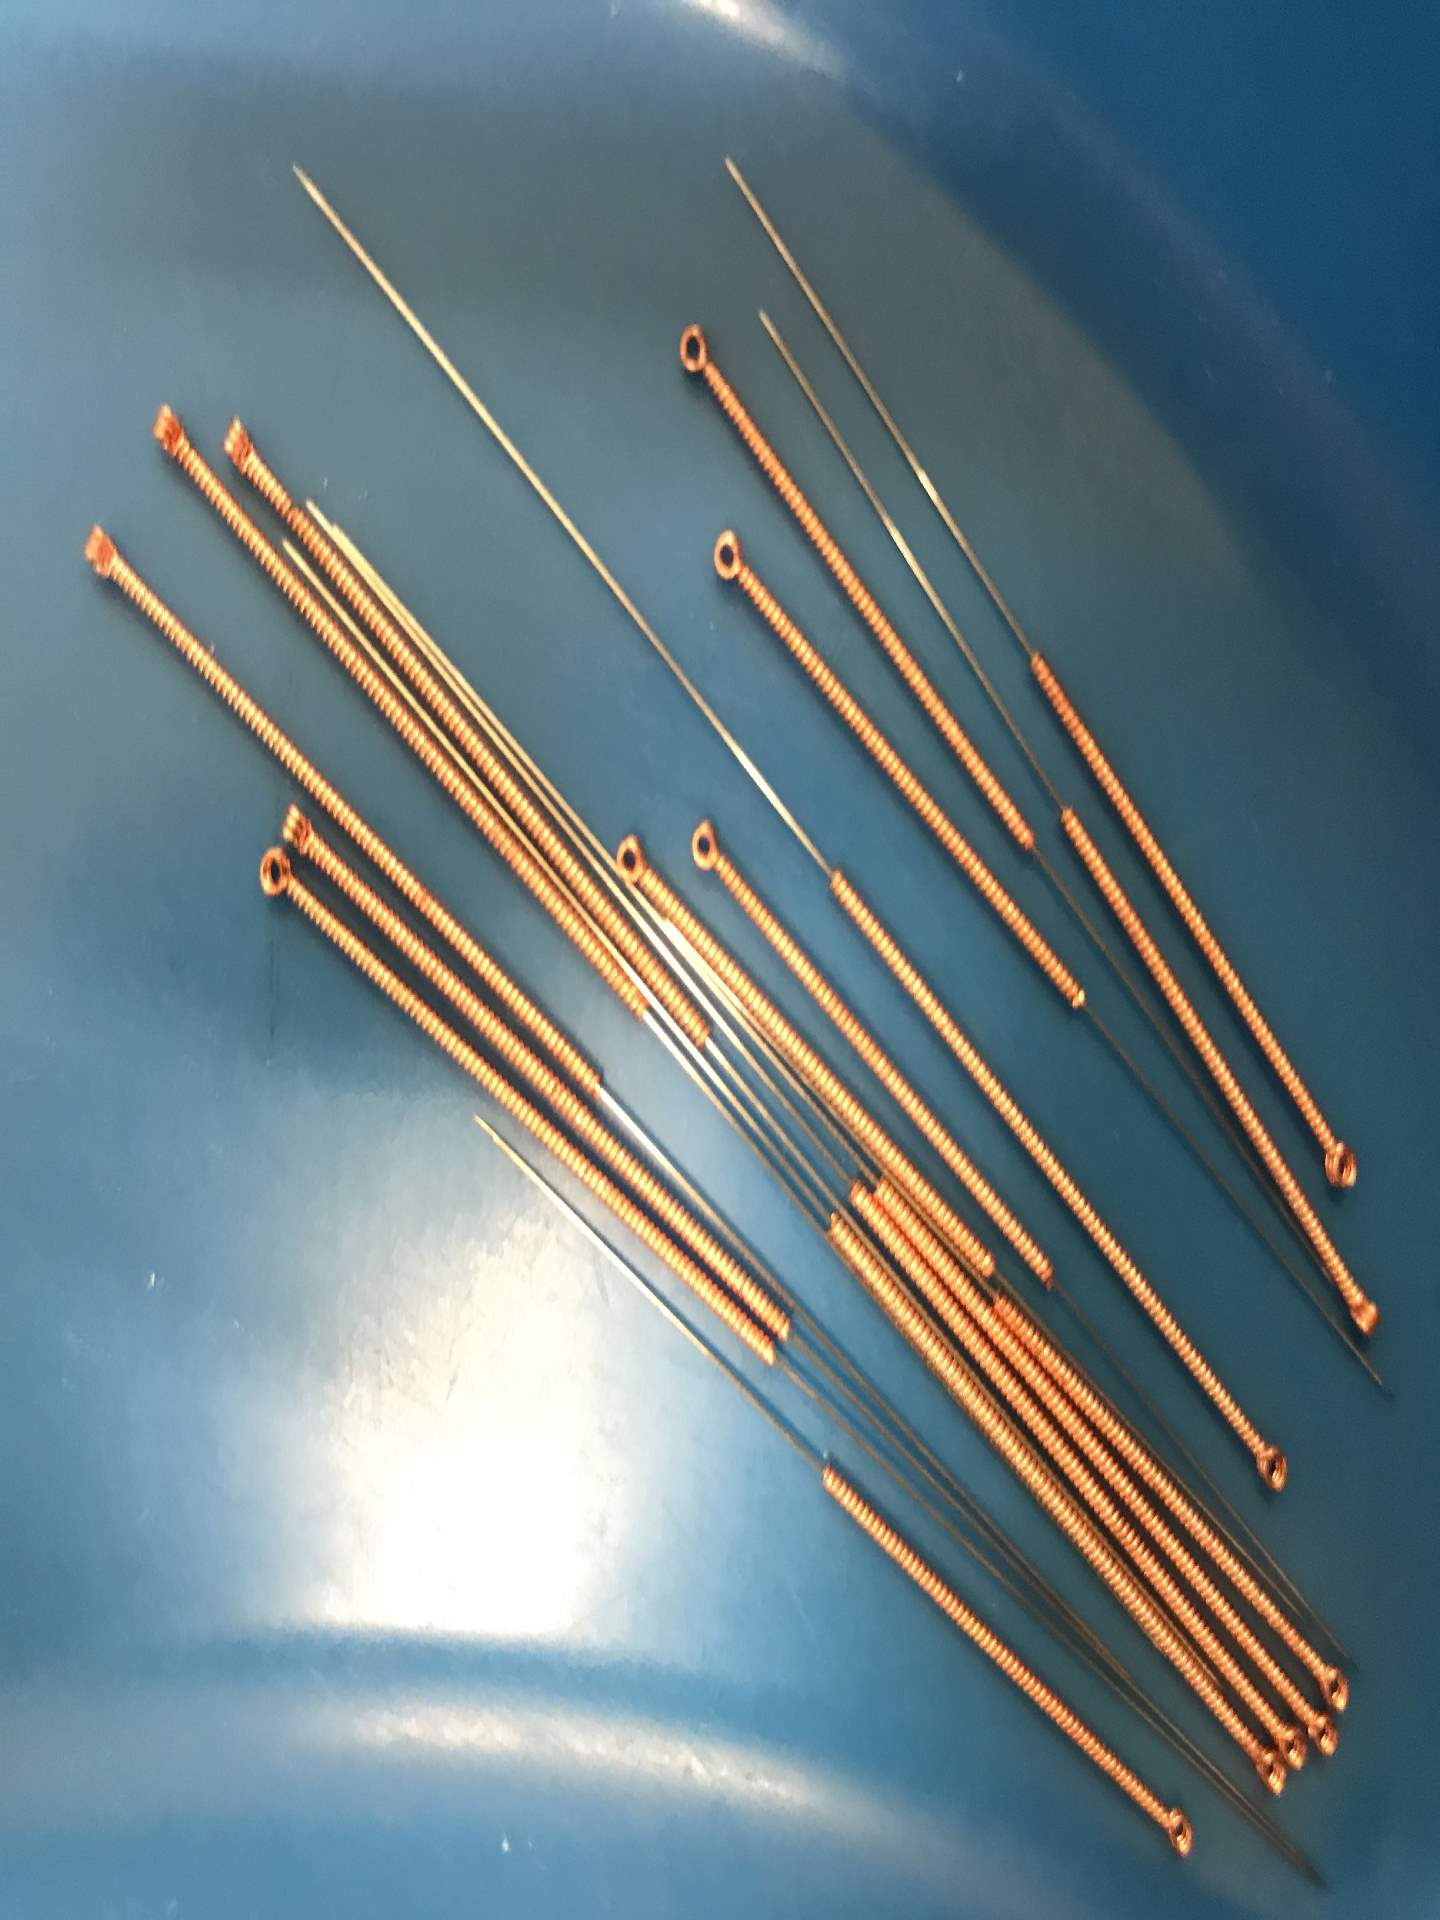needle: (57, 505, 139, 594), (656, 304, 731, 401), (667, 804, 746, 892), (1231, 1426, 1307, 1510), (1330, 1265, 1398, 1355), (1139, 1798, 1215, 1875), (132, 392, 203, 473), (696, 514, 761, 599), (1305, 1119, 1369, 1203), (237, 841, 304, 919), (601, 819, 664, 897), (207, 405, 274, 476), (1301, 1640, 1355, 1716), (1234, 1742, 1289, 1810), (268, 788, 324, 853), (1301, 1701, 1342, 1767), (1272, 1716, 1311, 1779)
